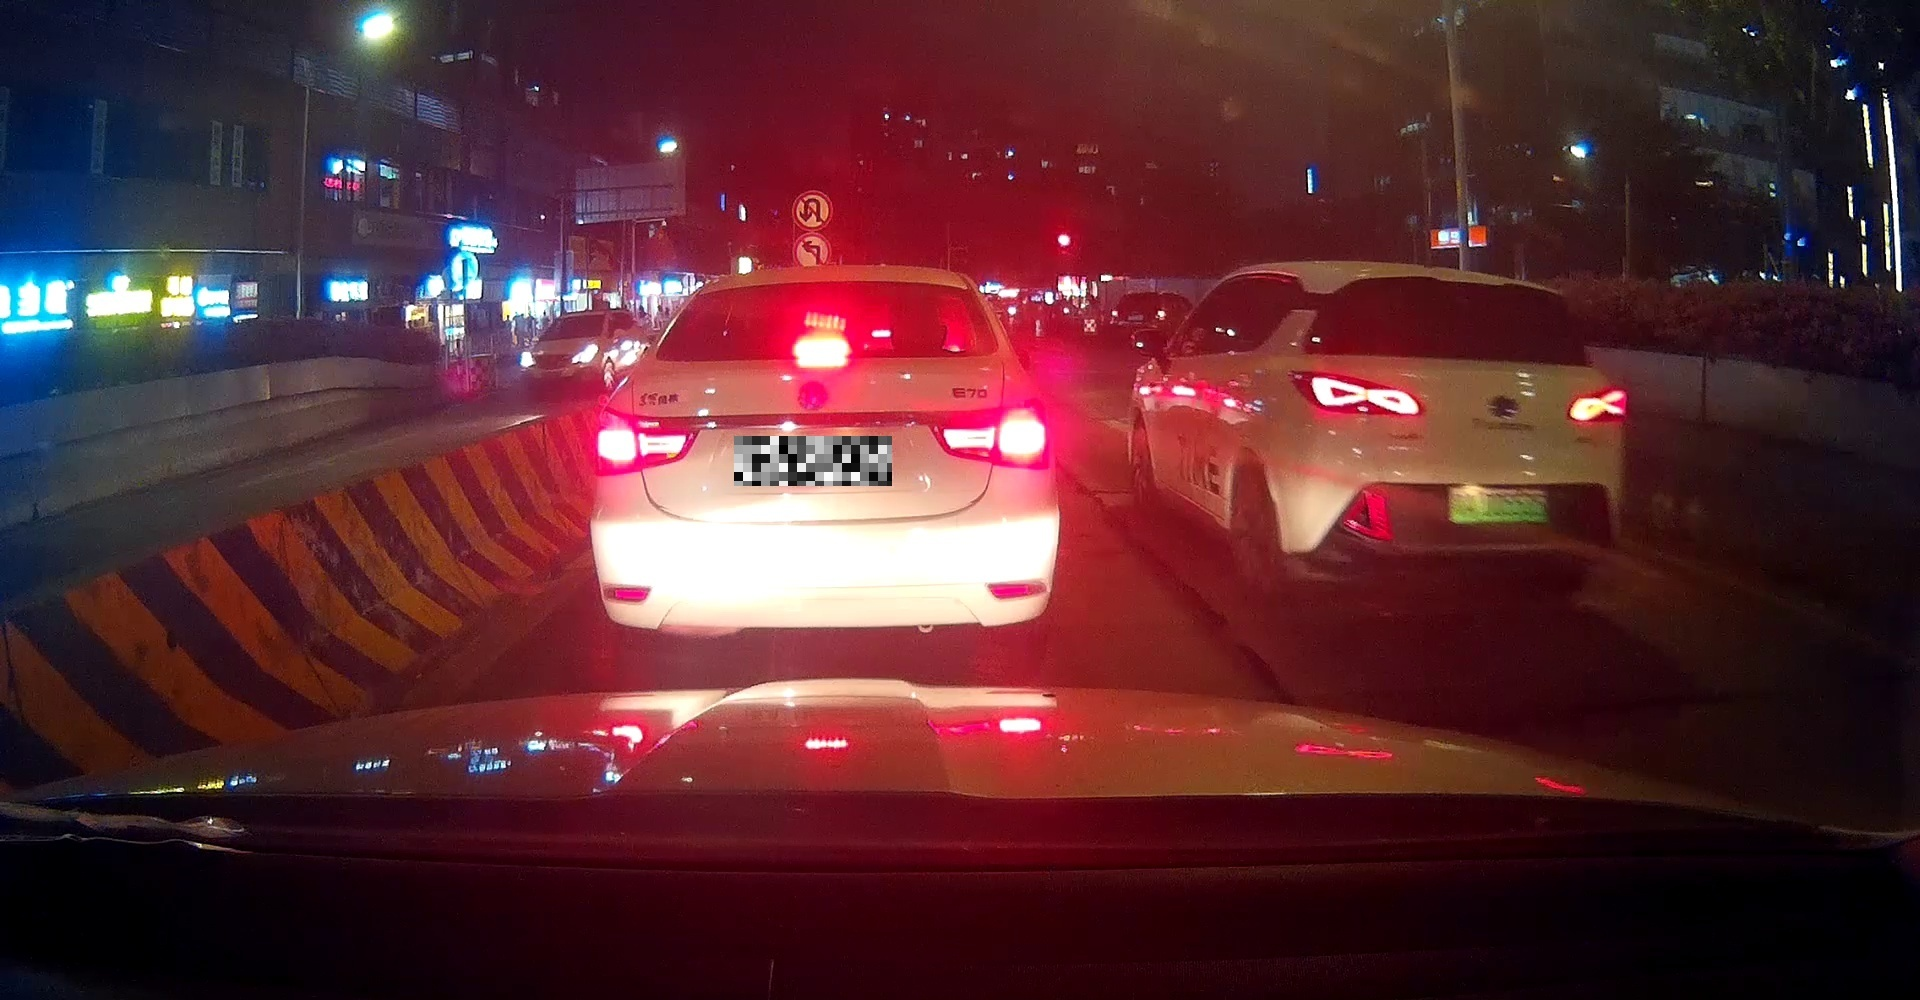L_light: (592, 407, 703, 481), (1288, 368, 1427, 419)
R_light: (926, 398, 1050, 472), (1563, 387, 1628, 424)
T_light: (789, 338, 857, 367), (1437, 274, 1505, 291)
night-brake: (585, 266, 1059, 664)
night-no: (1279, 266, 1630, 609)
plate_1: (734, 437, 891, 486)
